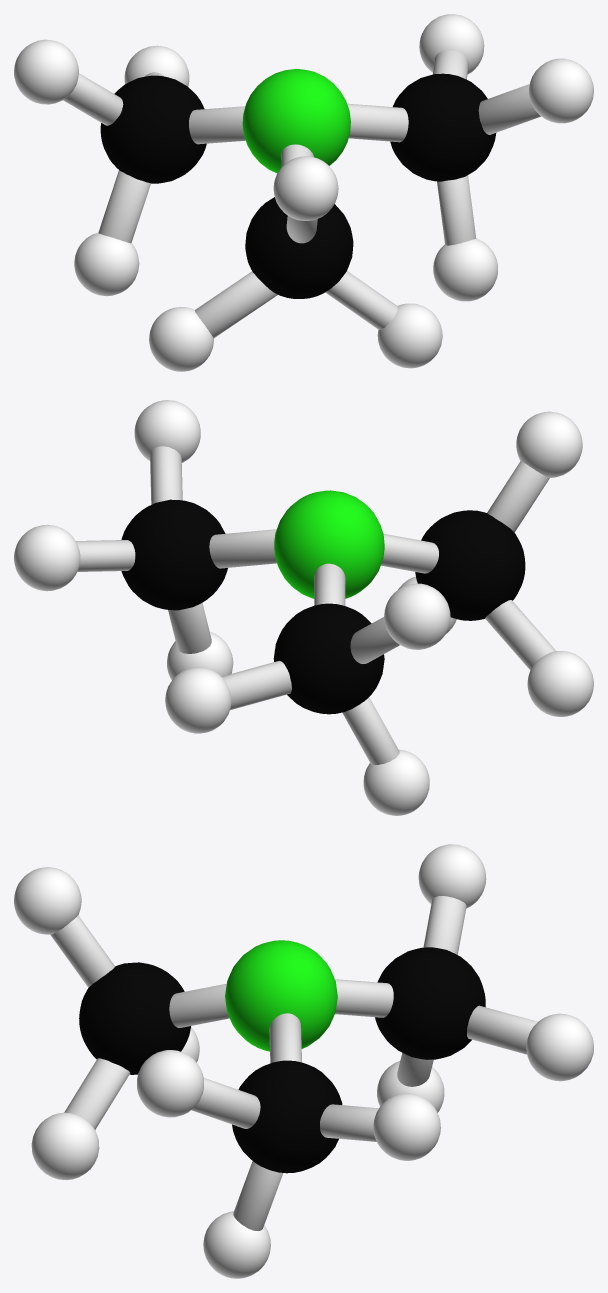
The picture shows the model from 3 angles, top to bottom: view 1: azimuth 30°, elevation 25°; view 2: azimuth 150°, elevation 25°; view 3: azimuth 270°, elevation 25°; orthographic projection. The views are drawn at different scales.
Visible parts, largest first — view 1: 구체, 구체.015, 구체.025, 구체.004, 구체.012, 구체.009, 구체.003, 구체.002, 구체.011, 구체.014, 구체.001, 실린더.003 (+11 smaller); view 2: 구체.015, 구체.025, 구체.004, 구체, 구체.013, 구체.009, 구체.010, 구체.002, 구체.003, 구체.014, 구체.012, 실린더.013 (+11 smaller); view 3: 구체, 구체.025, 구체.004, 구체.015, 구체.010, 구체.013, 구체.012, 구체.001, 구체.003, 구체.011, 구체.009, 실린더.001 (+11 smaller).
Boxes of the visible parts, x1,y1,x2,y2 form: 구체: (100, 75, 206, 183); 구체.015: (390, 73, 496, 181); 구체.025: (242, 69, 350, 173); 구체.004: (245, 197, 353, 298); 구체.012: (529, 58, 593, 123); 구체.009: (14, 39, 78, 104); 구체.003: (273, 156, 338, 220); 구체.002: (149, 307, 213, 371); 구체.011: (433, 238, 497, 301); 구체.014: (74, 232, 139, 296); 구체.001: (377, 303, 442, 368); 실린더.003: (195, 271, 277, 338); 구체.015: (121, 499, 227, 610); 구체.025: (274, 490, 384, 598); 구체.004: (415, 510, 525, 620); 구체: (273, 603, 384, 714); 구체.013: (14, 524, 80, 591); 구체.009: (384, 583, 450, 649); 구체.010: (165, 667, 231, 733); 구체.002: (527, 651, 593, 716); 구체.003: (516, 411, 582, 477); 구체.014: (363, 749, 429, 815); 구체.012: (134, 400, 200, 462); 실린더.013: (209, 529, 276, 568); 구체: (375, 947, 485, 1059); 구체.025: (225, 940, 337, 1051); 구체.004: (79, 962, 190, 1074); 구체.015: (232, 1060, 342, 1173); 구체.010: (526, 1013, 593, 1081); 구체.013: (373, 1093, 440, 1160); 구체.012: (137, 1050, 203, 1117); 구체.001: (31, 1112, 99, 1180); 구체.003: (14, 867, 81, 934); 구체.011: (203, 1211, 270, 1278); 구체.009: (418, 844, 486, 908); 실린더.001: (64, 1058, 130, 1129).
Size of the model in its own units: 1178 by 679 by 1285.
